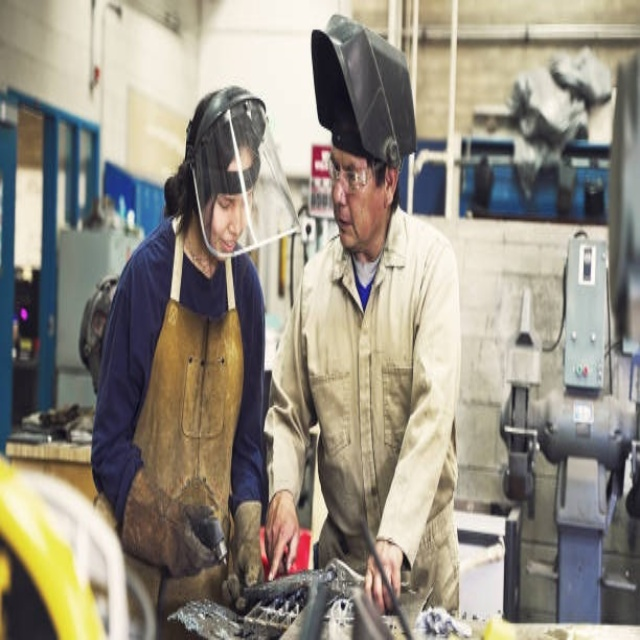Gafas: (327, 151, 385, 192)
Guantes: (118, 454, 222, 573), (224, 495, 264, 601)
Sin_gafas: (211, 180, 258, 218)
Sin_guantes: (262, 491, 300, 581), (364, 538, 403, 611)
Sin_mascara: (335, 210, 363, 253), (212, 225, 245, 257)
